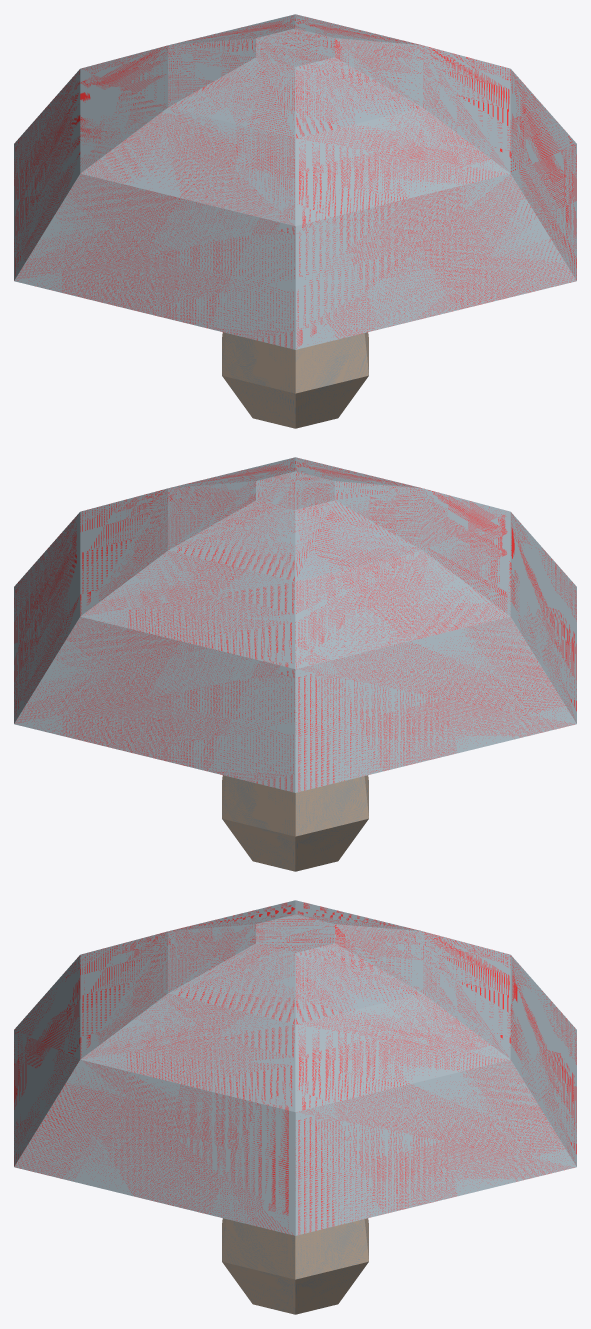
File: Mushroom_01.fbx
3 renders of one model, top to bottom at view 1: azimuth 30°, elevation 25°; view 2: azimuth 150°, elevation 25°; view 3: azimuth 270°, elevation 25°, orthographic.
Parts seen in each view (by area): view 1: Model; view 2: Model; view 3: Model.
Part boxes in pixels (box(x1,y1,x2,y2)): Model: box(14, 14, 576, 428); Model: box(14, 457, 576, 871); Model: box(14, 900, 576, 1314).
Size of the model in its own units: 75.63 by 46.23 by 65.49.
